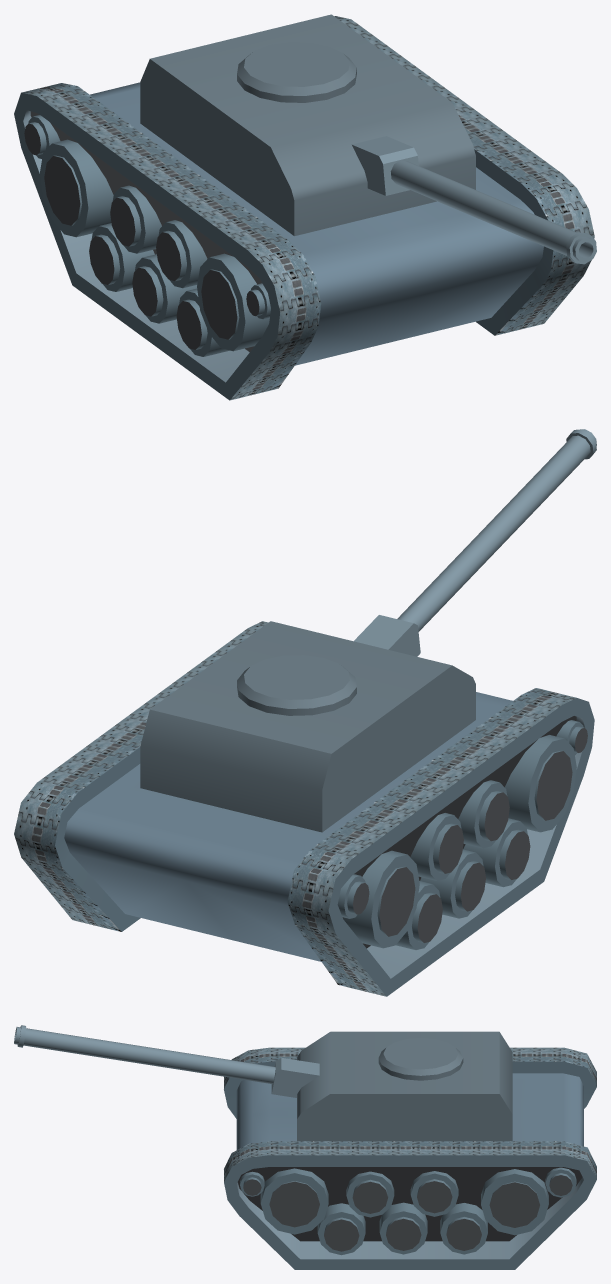
Rendered from Tank.fbx.
The picture shows the model from 3 angles, top to bottom: view 1: azimuth 30°, elevation 25°; view 2: azimuth 150°, elevation 25°; view 3: azimuth 270°, elevation 25°; orthographic projection. The views are drawn at different scales.
Visible parts, largest first — view 1: Tank, Cube.002; view 2: Tank, Cube.002; view 3: Tank, Cube.002.
Part boxes in pixels (x1,y1,x2,y2): Tank: (14, 16, 594, 400); Cube.002: (140, 14, 596, 264); Tank: (14, 621, 594, 996); Cube.002: (140, 429, 596, 832); Tank: (224, 1047, 596, 1269); Cube.002: (14, 1025, 512, 1141).
Bounding box in the file's own units: 2.59 × 2 × 5.57.
